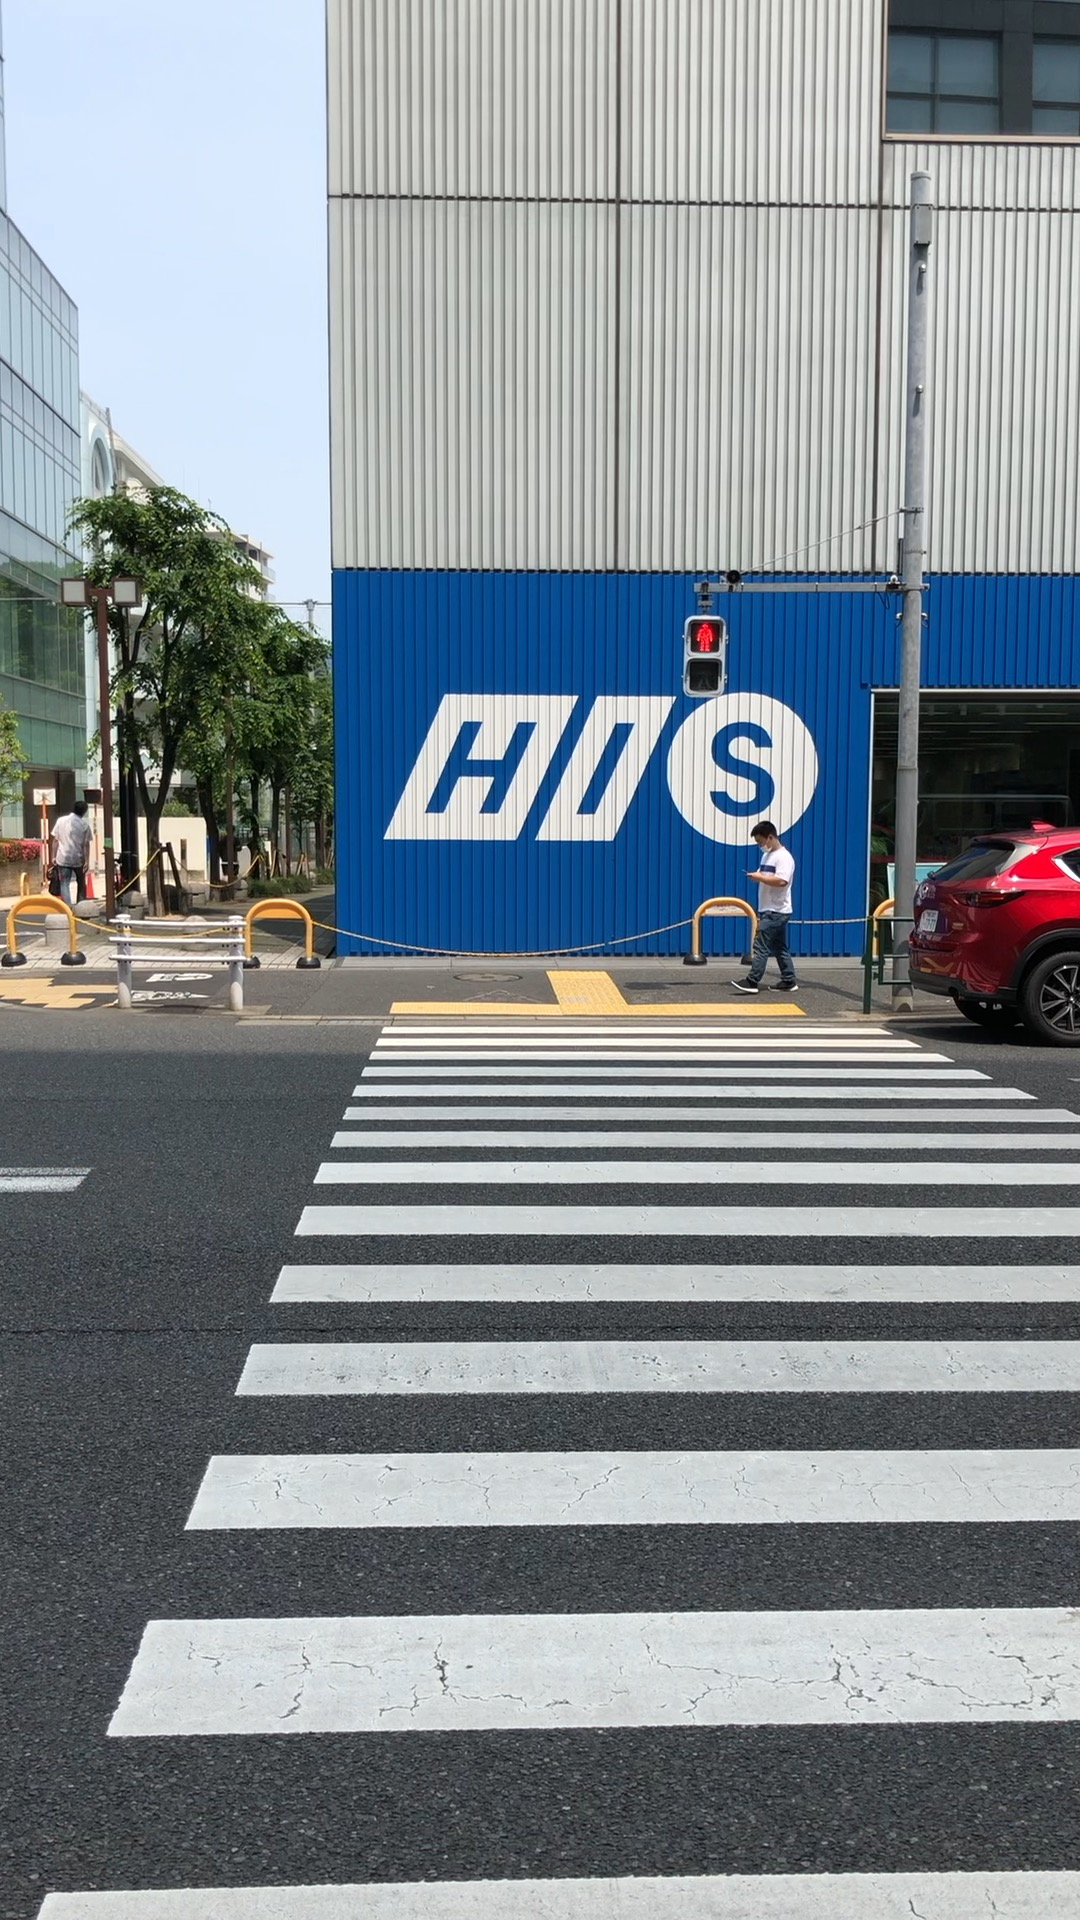red: (682, 615, 728, 698)
